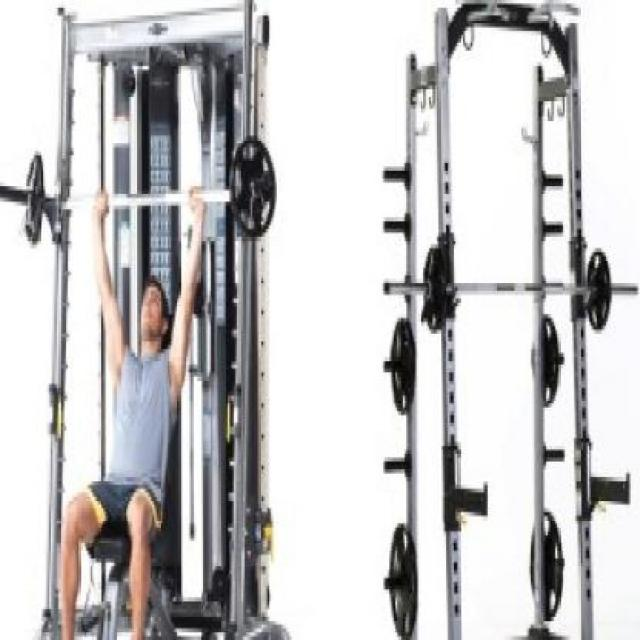smith machine: (381, 0, 640, 640)
